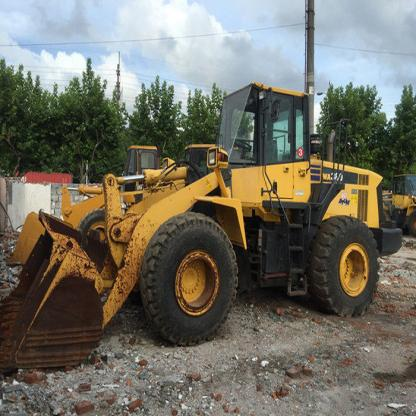bull_dozer/loader/grader: (12, 70, 406, 402)
